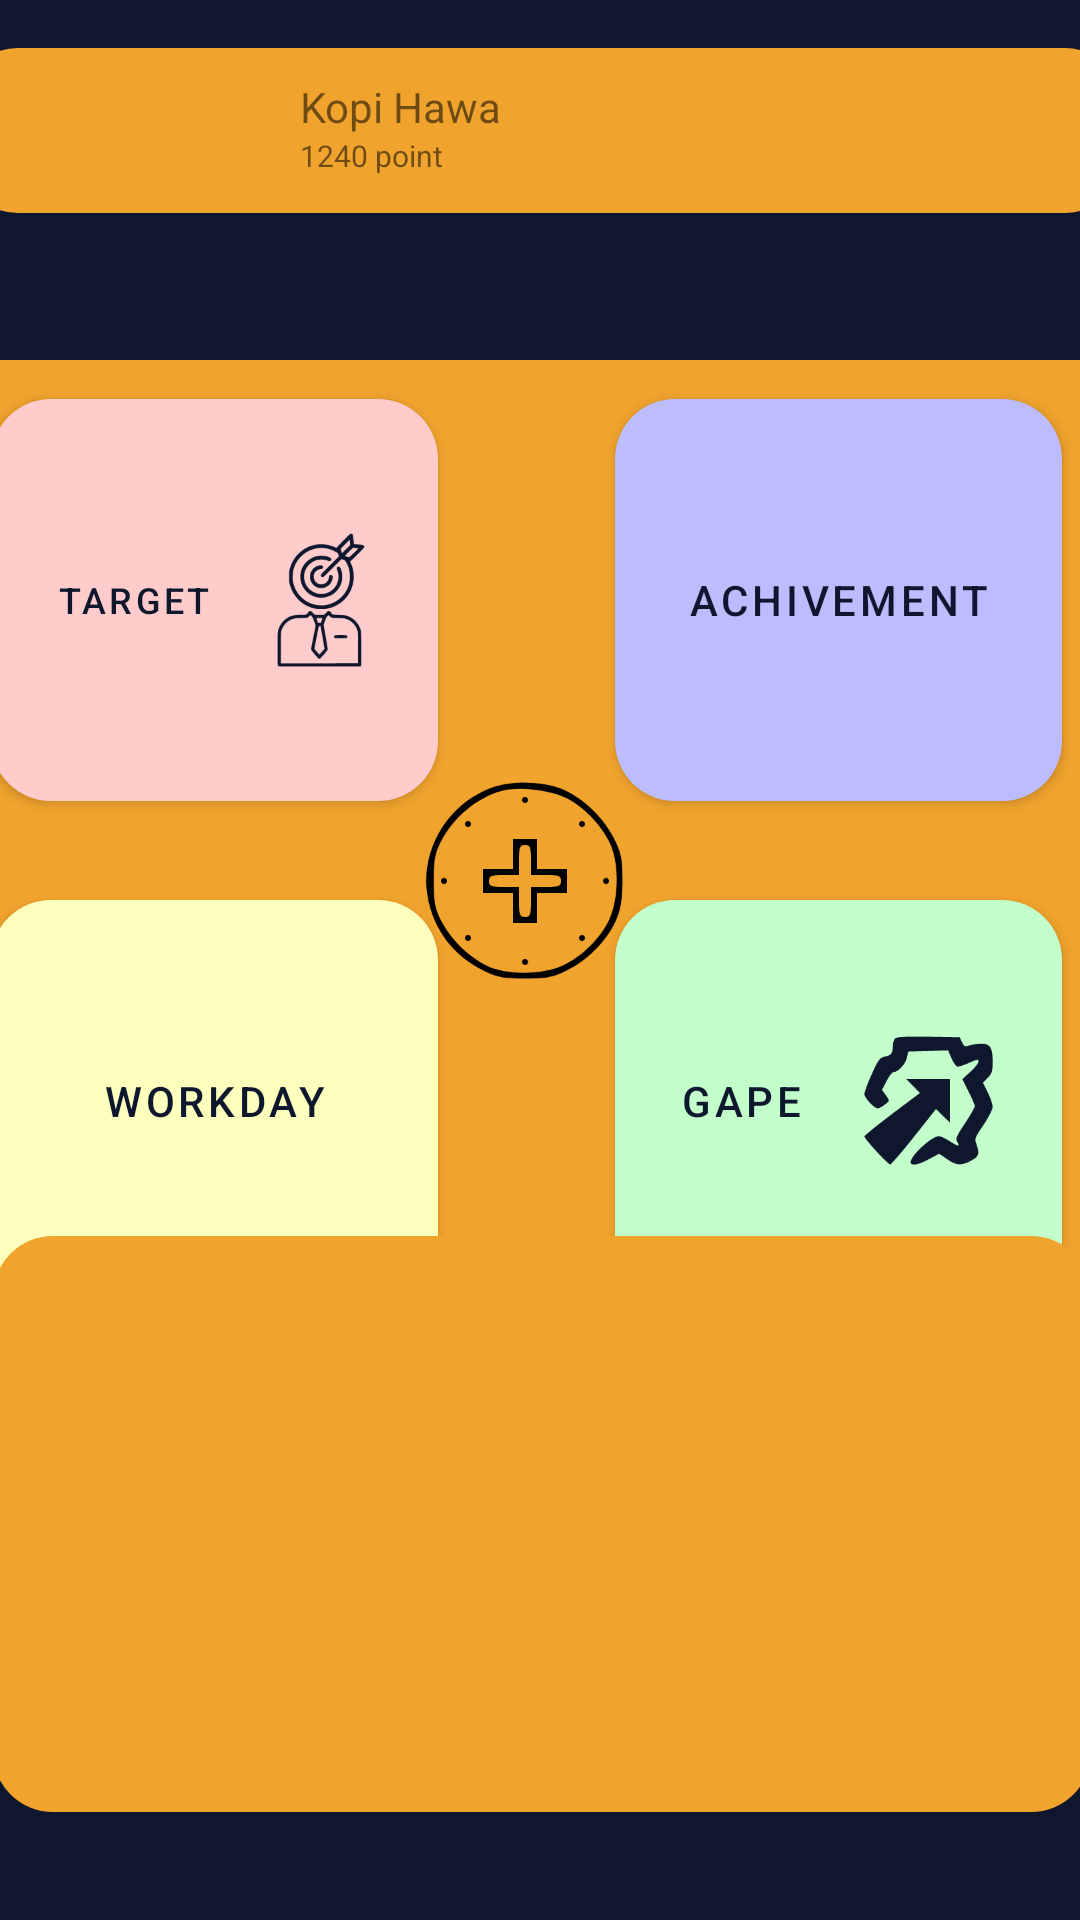

Where to tap for icons on this 1080 x 1920 app screen, as [x,y]:
add: [525,880]
